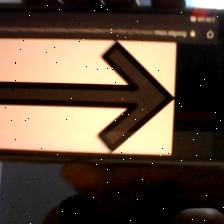right: (3, 40, 174, 152)
